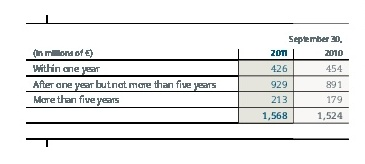table: (0, 0, 365, 164)
